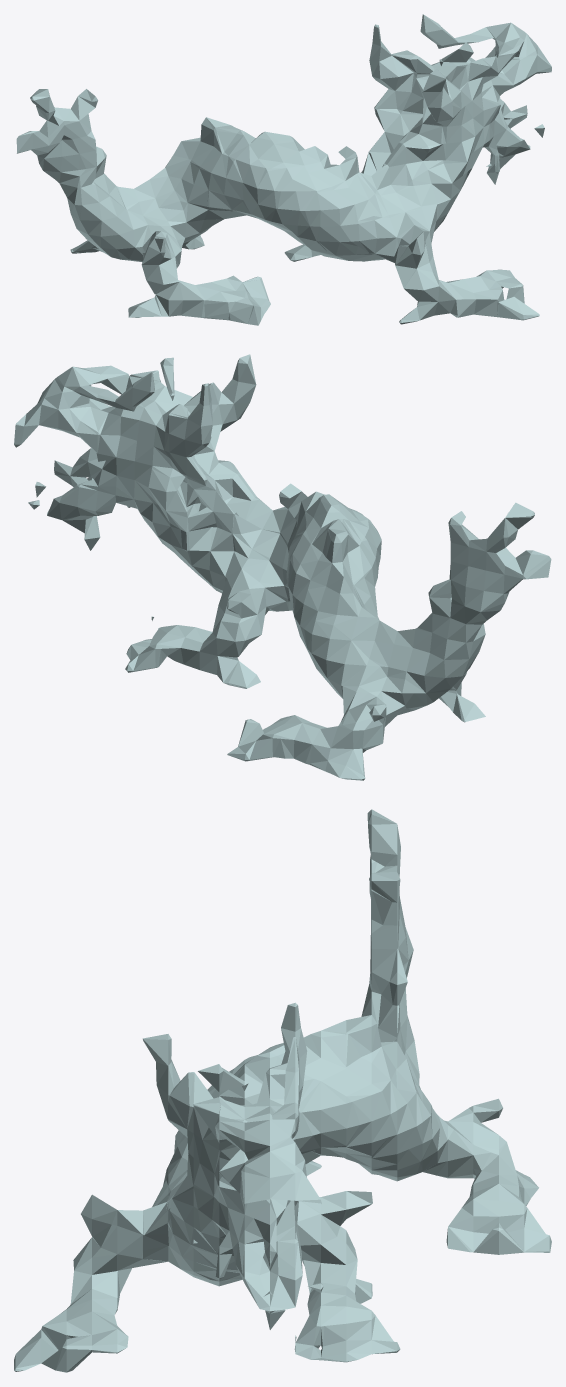
File: ours_32.glb
The picture shows the model from 3 angles, top to bottom: view 1: azimuth 30°, elevation 25°; view 2: azimuth 150°, elevation 25°; view 3: azimuth 270°, elevation 25°; orthographic projection. The views are drawn at different scales.
Visible parts, largest first — view 1: ours_32.ply; view 2: ours_32.ply; view 3: ours_32.ply.
Part boxes in pixels (x1,y1,x2,y2): ours_32.ply: (16,14,551,325); ours_32.ply: (14,354,551,780); ours_32.ply: (14,809,551,1372).
Size of the model in its own units: 2 by 0.9302 by 1.37.
